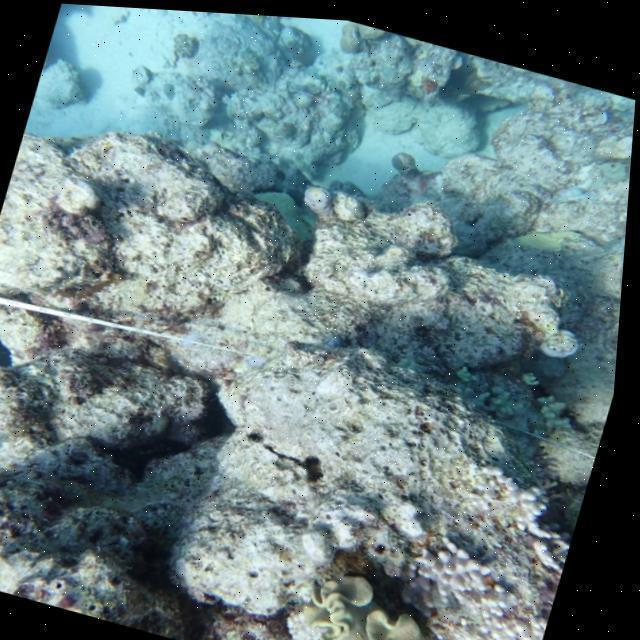Bleached Coral: (391, 500, 578, 640)
